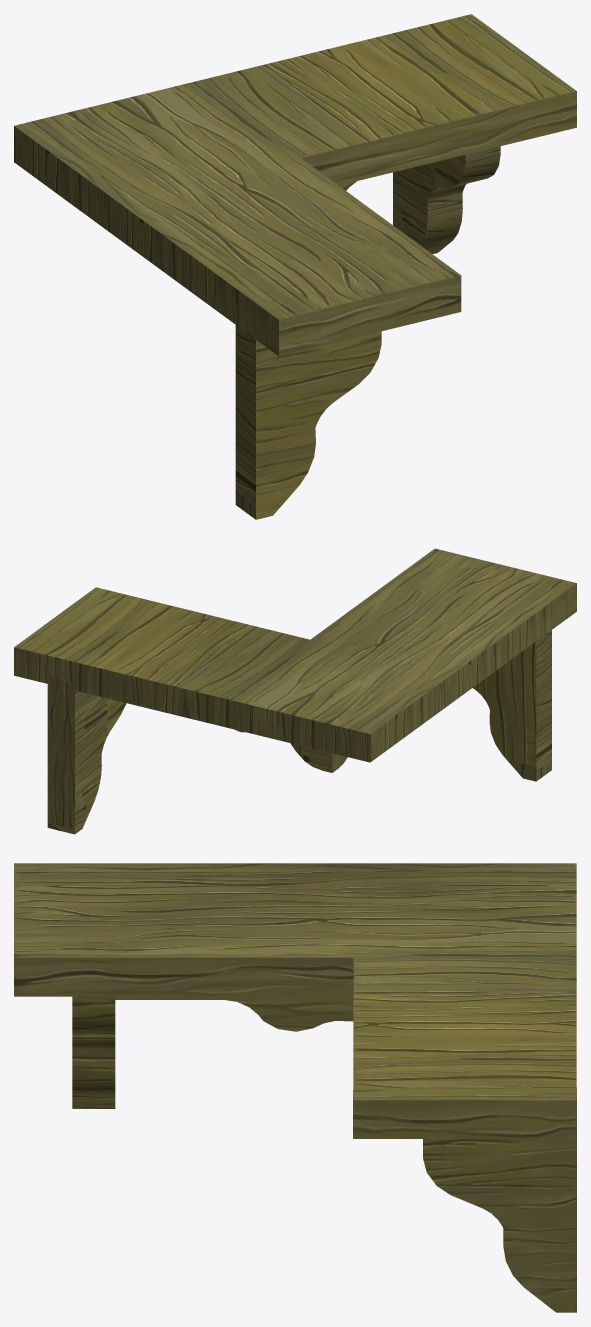
The model's file is Shelf ugol square.fbx.
The picture shows the model from 3 angles, top to bottom: view 1: azimuth 30°, elevation 25°; view 2: azimuth 150°, elevation 25°; view 3: azimuth 270°, elevation 25°; orthographic projection. The views are drawn at different scales.
Parts seen in each view (by area): view 1: Shelf ugol2; view 2: Shelf ugol2; view 3: Shelf ugol2.
Boxes of the visible parts, x1,y1,x2,y2 form: Shelf ugol2: [14, 14, 576, 519]; Shelf ugol2: [14, 548, 576, 834]; Shelf ugol2: [14, 863, 576, 1312].
Size of the model in its own units: 31.69 by 14.63 by 31.81.
Materials: 1 (1 with a texture image).
